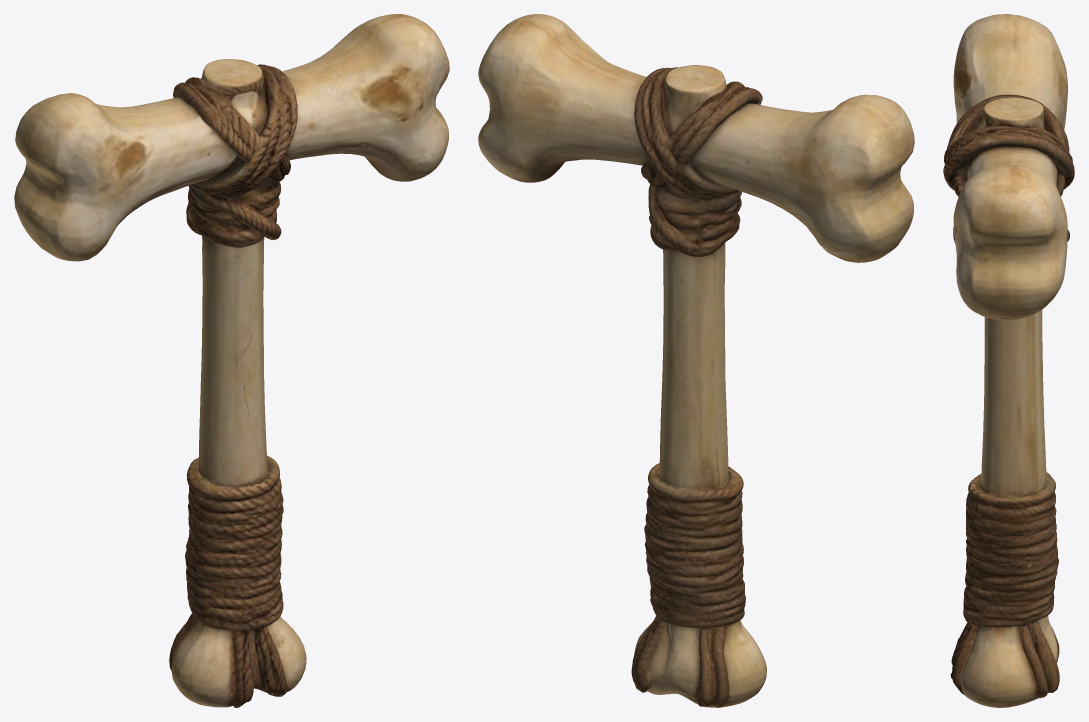
File: PF_Hammer4.glb
3 renders of one model, left to right at view 1: azimuth 30°, elevation 25°; view 2: azimuth 150°, elevation 25°; view 3: azimuth 270°, elevation 25°, orthographic. The views are drawn at different scales.
Size of the model in its own units: 1.35 by 1.99 by 0.3975.
1 material, 1 textured.
